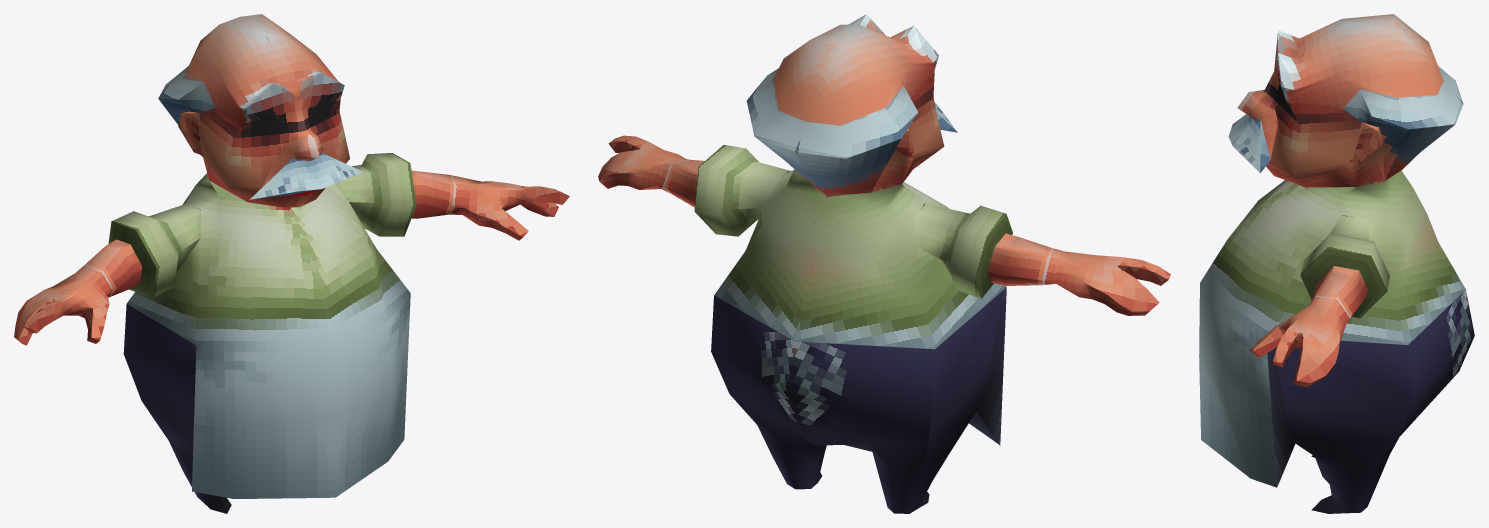
Rendered from MFD_ShopKeep.fbx.
The picture shows the model from 3 angles, left to right: view 1: azimuth 30°, elevation 25°; view 2: azimuth 150°, elevation 25°; view 3: azimuth 270°, elevation 25°; orthographic projection. The views are drawn at different scales.
Parts seen in each view (by area): view 1: Cube_007; view 2: Cube_007; view 3: Cube_007.
Part boxes in pixels (x1,y1,x2,y2): Cube_007: [14, 14, 569, 513]; Cube_007: [598, 14, 1170, 513]; Cube_007: [1199, 14, 1474, 513].
Size of the model in its own units: 7.31 by 5.83 by 3.16.
